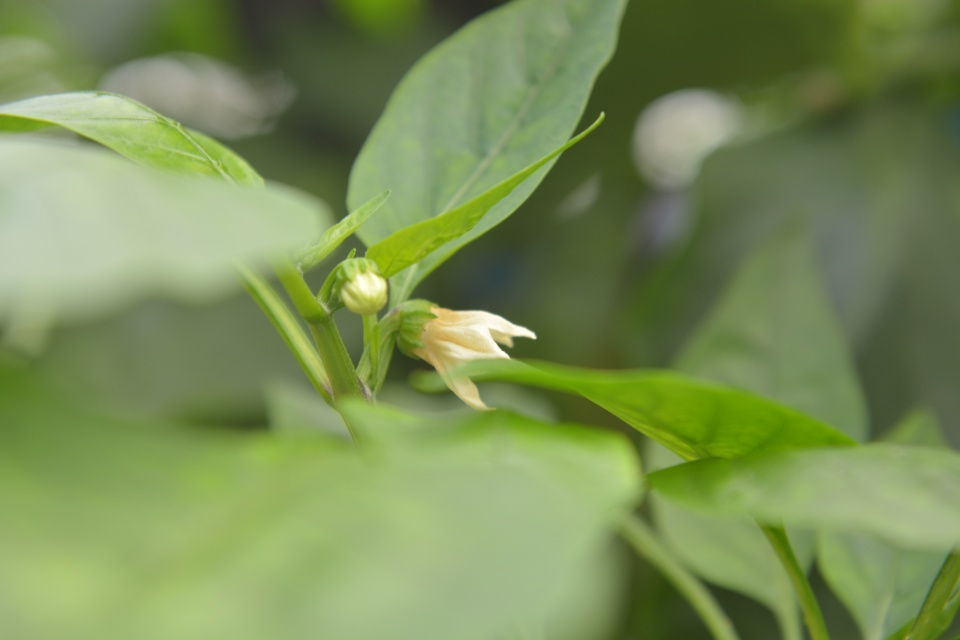flower: (410, 302, 538, 415)
